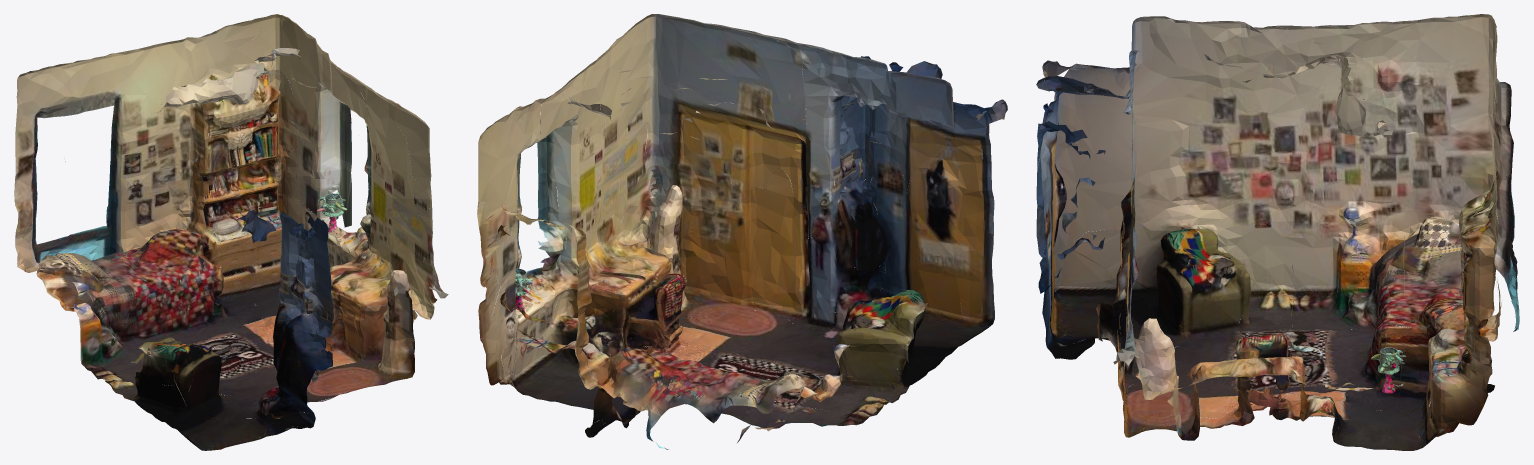
File: room8.glb
The picture shows the model from 3 angles, left to right: view 1: azimuth 30°, elevation 25°; view 2: azimuth 150°, elevation 25°; view 3: azimuth 270°, elevation 25°; orthographic projection. The views are drawn at different scales.
Parts seen in each view (by area): view 1: Mesh_0, Mesh_0.001; view 2: Mesh_0; view 3: Mesh_0, Mesh_0.001.
Part boxes in pixels (left/top/right/bottom): Mesh_0: left=14, top=14, right=448, bottom=450; Mesh_0.001: left=316, top=192, right=347, bottom=232; Mesh_0: left=477, top=14, right=1007, bottom=449; Mesh_0: left=1036, top=14, right=1519, bottom=450; Mesh_0.001: left=1371, top=347, right=1406, bottom=393.
Size of the model in its own units: 1.2 by 0.9789 by 1.42.
5 materials, 5 textured.
